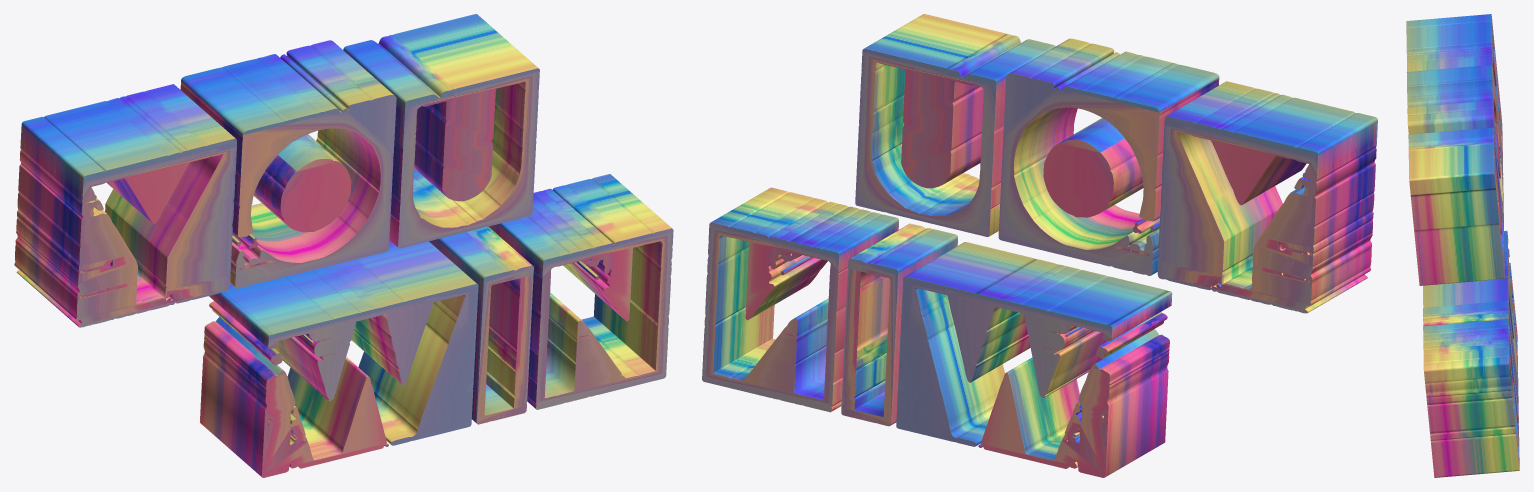
Rendered from youwin.obj.
The picture shows the model from 3 angles, left to right: view 1: azimuth 30°, elevation 25°; view 2: azimuth 150°, elevation 25°; view 3: azimuth 270°, elevation 25°; orthographic projection. The views are drawn at different scales.
Visible parts, largest first — view 1: Texto; view 2: Texto; view 3: Texto.
Part boxes in pixels (left/top/right/bottom): Texto: left=14, top=14, right=673, bottom=477; Texto: left=702, top=14, right=1377, bottom=477; Texto: left=1406, top=14, right=1519, bottom=477.
Size of the model in its own units: 3.06 by 1.84 by 0.7153.
Materials: 1 (1 with a texture image).
